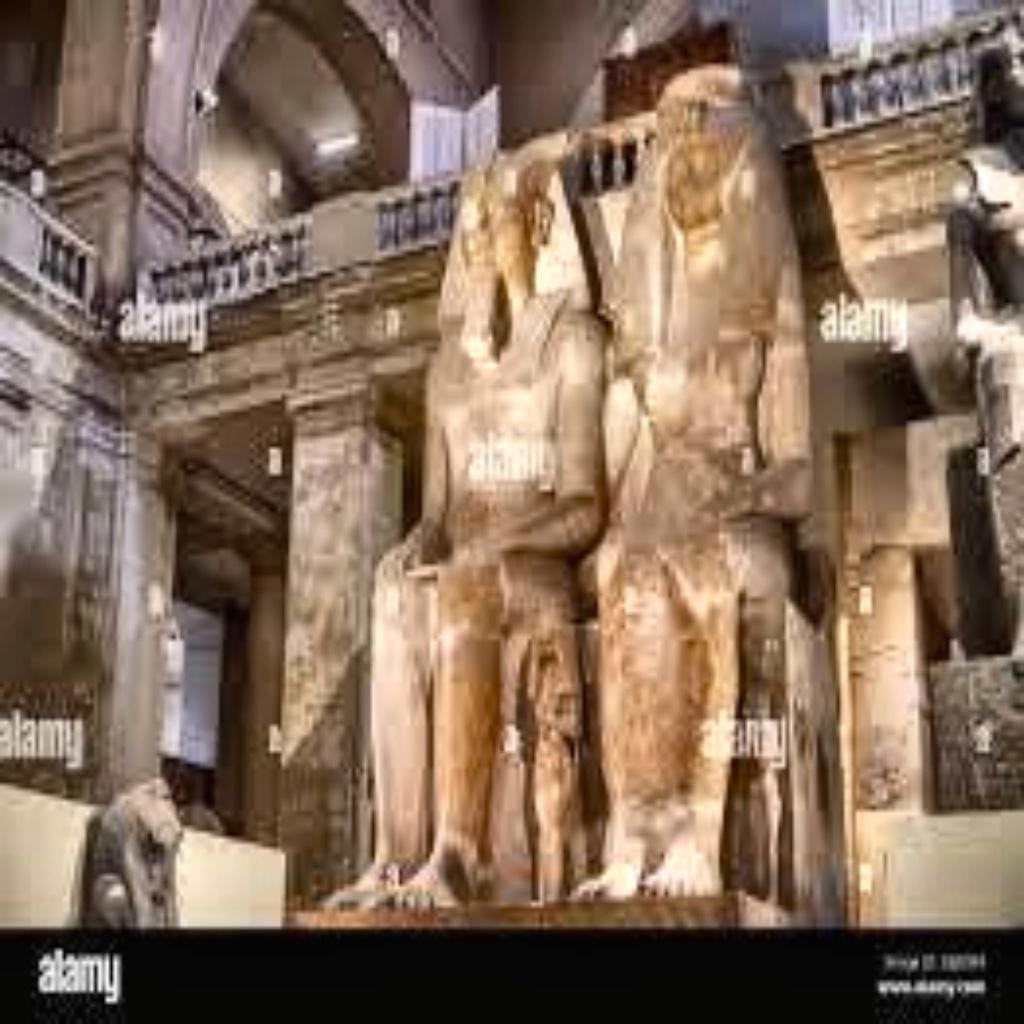Amenhotep III and Tiye: (336, 57, 812, 912)
